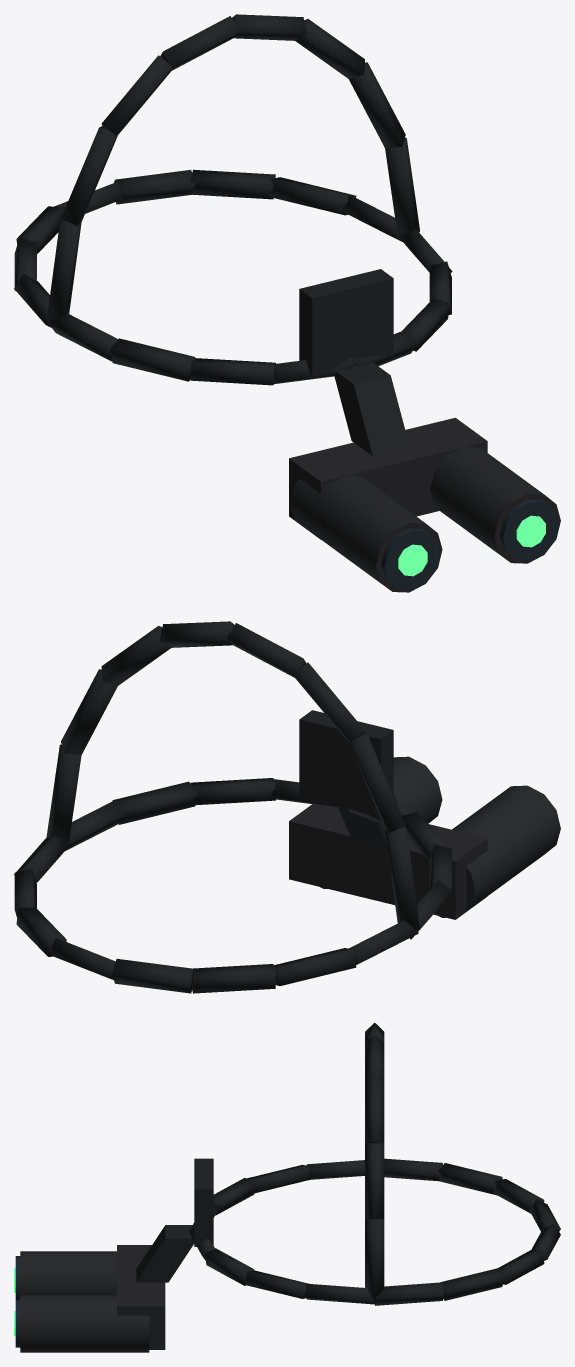
The model's file is night-optics.glb.
3 renders of one model, top to bottom at view 1: azimuth 30°, elevation 25°; view 2: azimuth 150°, elevation 25°; view 3: azimuth 270°, elevation 25°, orthographic. The views are drawn at different scales.
Parts seen in each view (by area): view 1: night-optics; view 2: night-optics; view 3: night-optics.
Part boxes in pixels (x1,y1,x2,y2): night-optics: (14,14,560,592); night-optics: (14,621,560,993); night-optics: (14,1022,560,1352).
Size of the model in its own units: 0.2019 by 0.2018 by 0.3397.
Materials: 1 (1 with a texture image).
